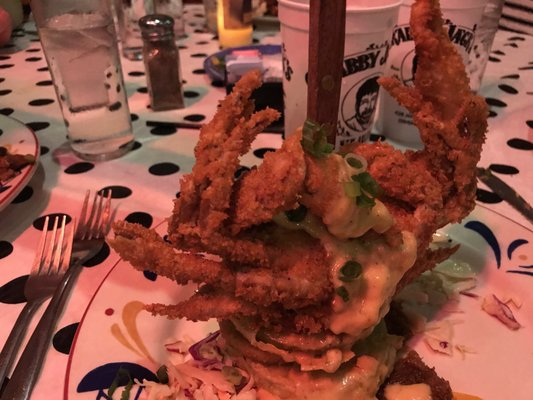burger: (5, 187, 119, 399), (0, 211, 74, 398), (38, 188, 117, 357)
pizza: (29, 0, 137, 162)
